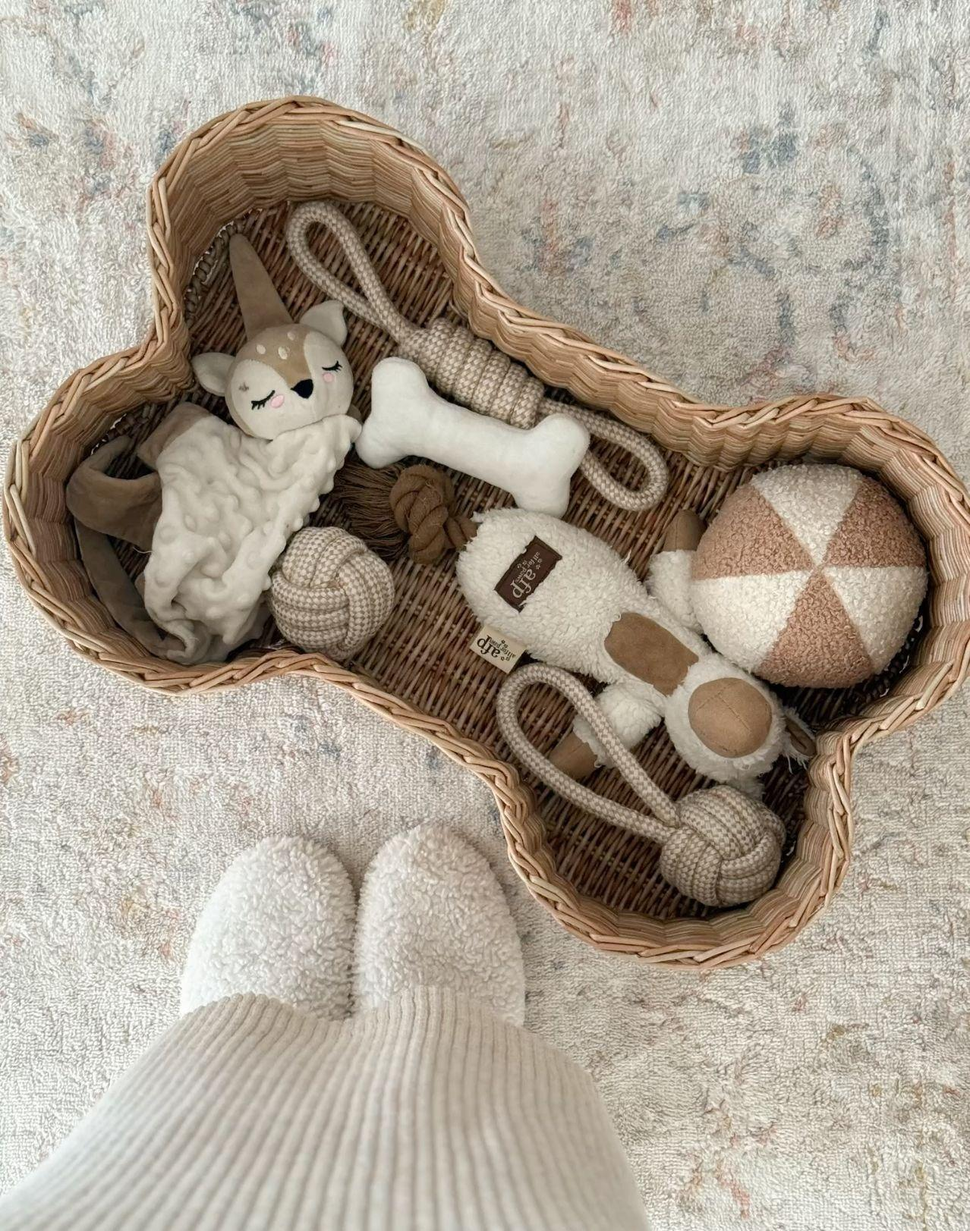non-dog: (61, 234, 364, 666), (449, 504, 810, 802)
